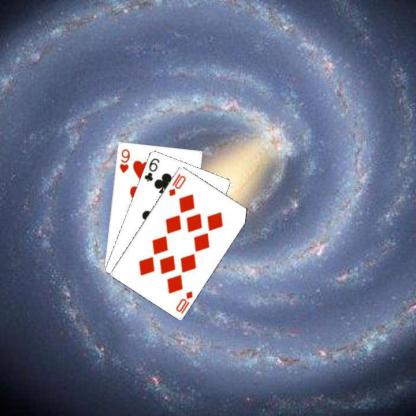10D: (166, 170, 187, 197), (173, 288, 194, 315)
6C: (142, 156, 160, 182)
9H: (116, 146, 130, 174)
